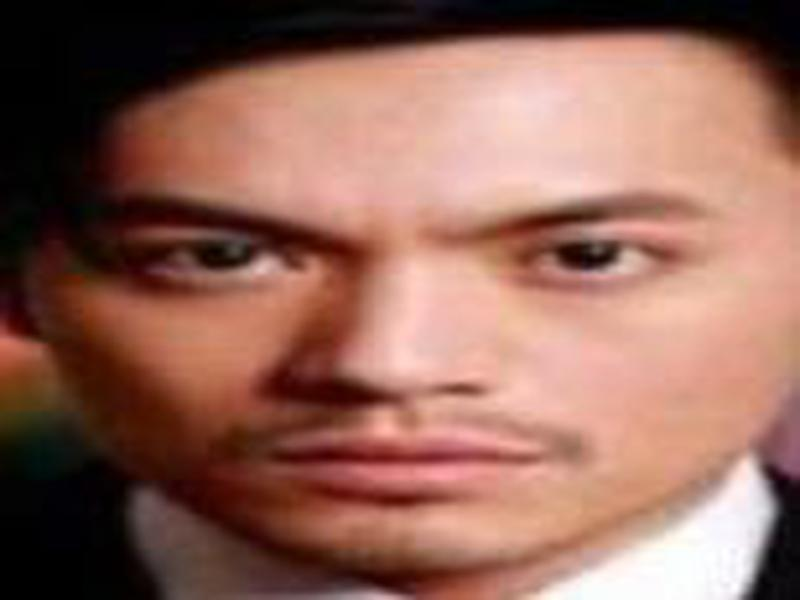without_mask: (31, 97, 782, 567)
